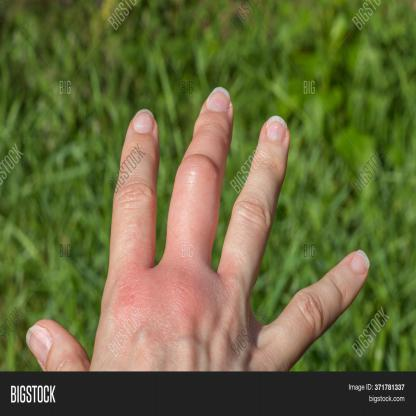Wasp: (108, 264, 219, 342), (175, 136, 221, 244)
